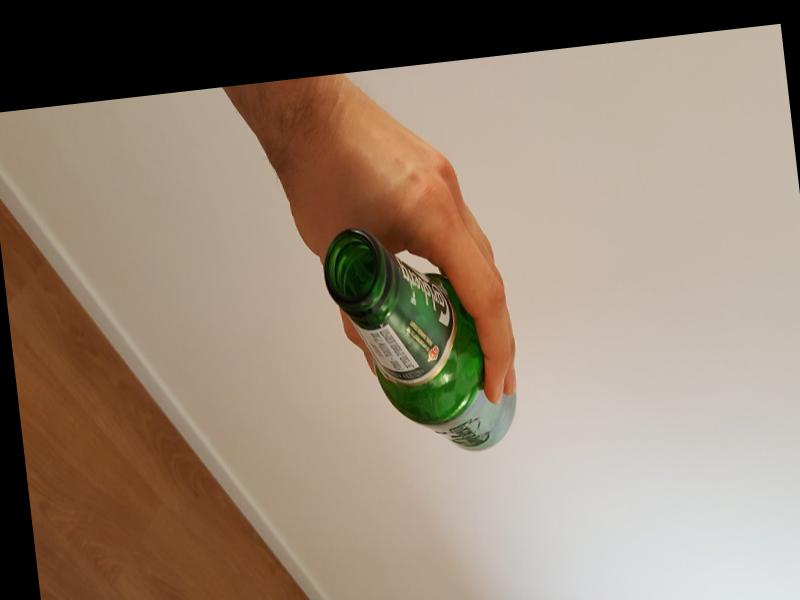Beer: (315, 211, 519, 466)
